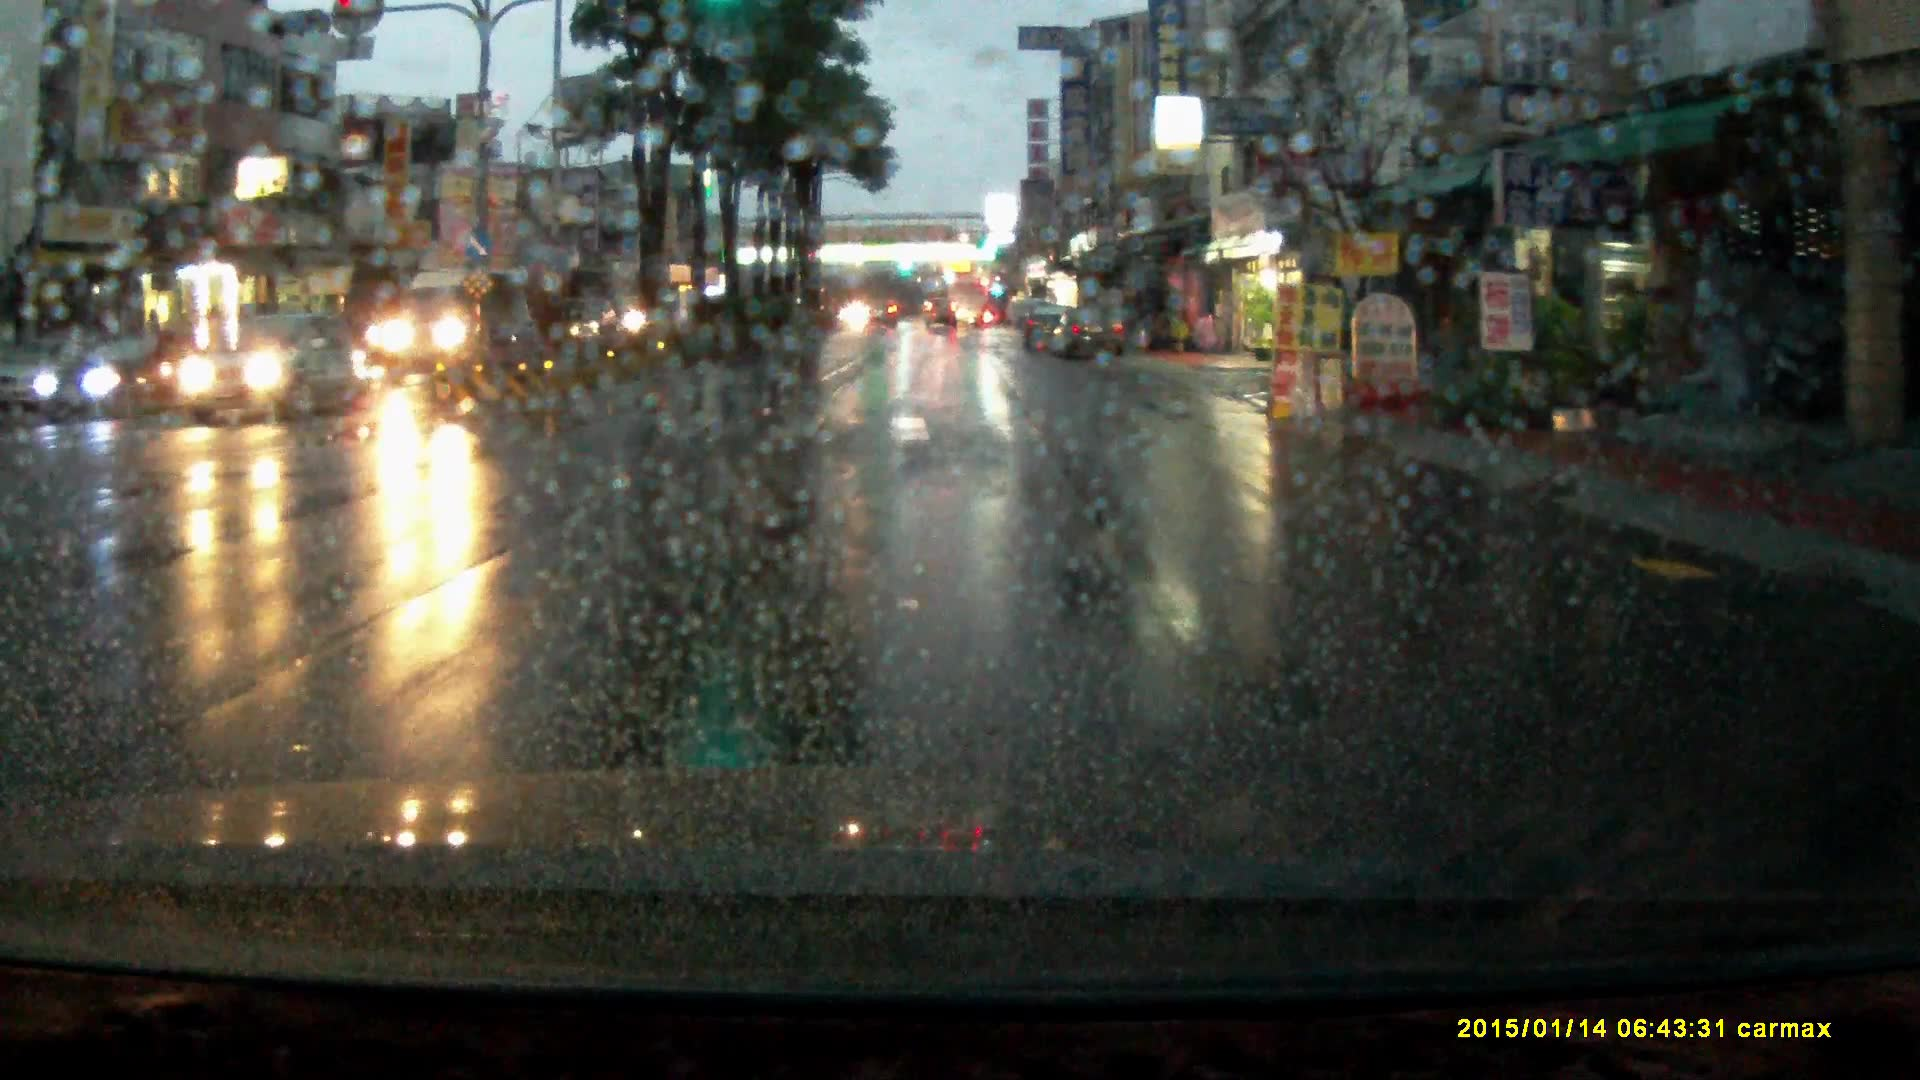vehicle: (175, 319, 371, 429), (381, 262, 524, 390), (26, 336, 174, 425), (1, 336, 88, 415), (1055, 307, 1129, 363), (1022, 303, 1073, 353), (948, 273, 988, 328), (927, 297, 959, 334), (865, 299, 899, 331)
